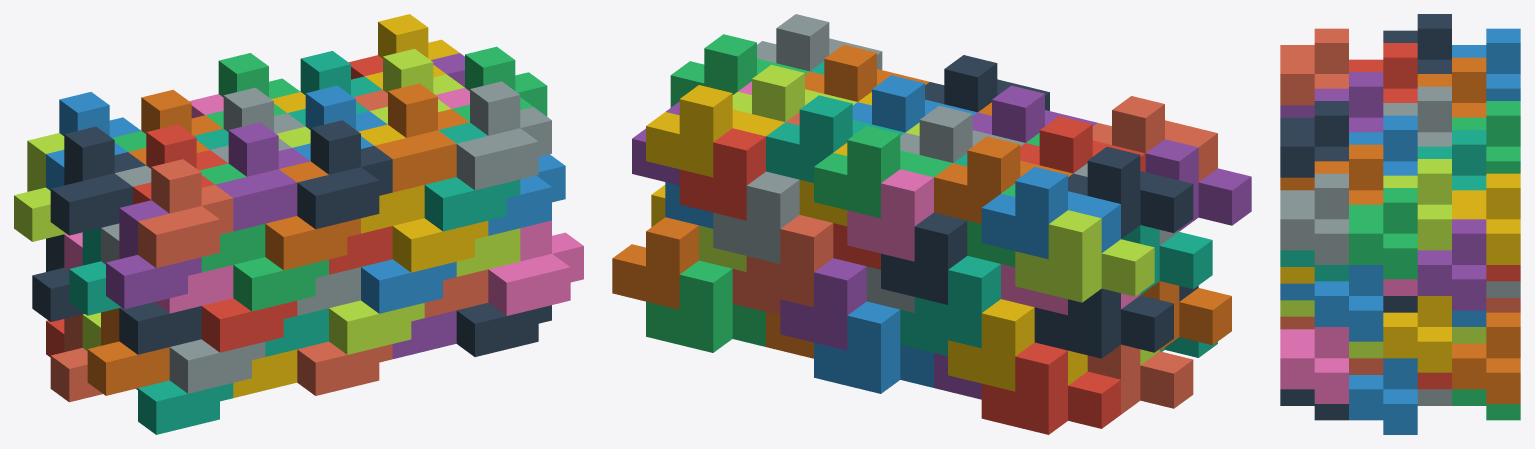
File: tiling.obj
3 views of the same model, side by side, from view 1: azimuth 30°, elevation 25°; view 2: azimuth 150°, elevation 25°; view 3: azimuth 270°, elevation 25° (orthographic). The views are drawn at different scales.
Visible parts, largest first — view 1: copy_93, copy_92, copy_94, copy_45, copy_77, copy_84, copy_78, copy_89, copy_91, copy_90, copy_66, copy_82 (+41 smaller); view 2: copy_11, copy_1, copy_14, copy_21, copy_3, copy_2, copy_45, copy_16, copy_15, copy_4, copy_6, copy_31 (+35 smaller); view 3: copy_63, copy_94, copy_29, copy_6, copy_84, copy_74, copy_40, copy_50, copy_16, copy_92, copy_93, copy_47 (+30 smaller).
Boxes of the visible parts, x1=… form: copy_93: x1=297, y1=120, x2=392, y2=229; copy_92: x1=138, y1=159, x2=233, y2=268; copy_94: x1=456, y1=81, x2=551, y2=190; copy_45: x1=50, y1=126, x2=145, y2=235; copy_77: x1=215, y1=122, x2=309, y2=231; copy_84: x1=488, y1=220, x2=583, y2=315; copy_78: x1=374, y1=83, x2=469, y2=192; copy_89: x1=106, y1=200, x2=201, y2=309; copy_91: x1=424, y1=122, x2=520, y2=231; copy_90: x1=265, y1=161, x2=360, y2=270; copy_66: x1=87, y1=308, x2=169, y2=395; copy_82: x1=169, y1=339, x2=265, y2=393; copy_11: x1=1015, y1=210, x2=1154, y2=302; copy_1: x1=981, y1=342, x2=1120, y2=434; copy_14: x1=981, y1=167, x2=1120, y2=259; copy_21: x1=1034, y1=288, x2=1173, y2=358; copy_3: x1=646, y1=260, x2=765, y2=352; copy_2: x1=814, y1=301, x2=933, y2=393; copy_45: x1=1068, y1=146, x2=1193, y2=238; copy_16: x1=646, y1=85, x2=784, y2=177; copy_15: x1=814, y1=126, x2=952, y2=218; copy_4: x1=948, y1=299, x2=1087, y2=391; copy_6: x1=612, y1=217, x2=698, y2=309; copy_31: x1=766, y1=95, x2=904, y2=182; copy_63: x1=1349, y1=188, x2=1417, y2=279; copy_94: x1=1280, y1=173, x2=1348, y2=264; copy_29: x1=1417, y1=219, x2=1486, y2=310; copy_6: x1=1452, y1=312, x2=1520, y2=403; copy_84: x1=1280, y1=327, x2=1348, y2=403; copy_74: x1=1314, y1=265, x2=1383, y2=341; copy_40: x1=1383, y1=296, x2=1451, y2=372; copy_50: x1=1349, y1=358, x2=1417, y2=434; copy_16: x1=1452, y1=173, x2=1520, y2=264; copy_92: x1=1280, y1=28, x2=1348, y2=105; copy_93: x1=1280, y1=101, x2=1348, y2=177; copy_47: x1=1383, y1=159, x2=1451, y2=250.
Bounding box in the file's own units: 15 × 7 × 7.
